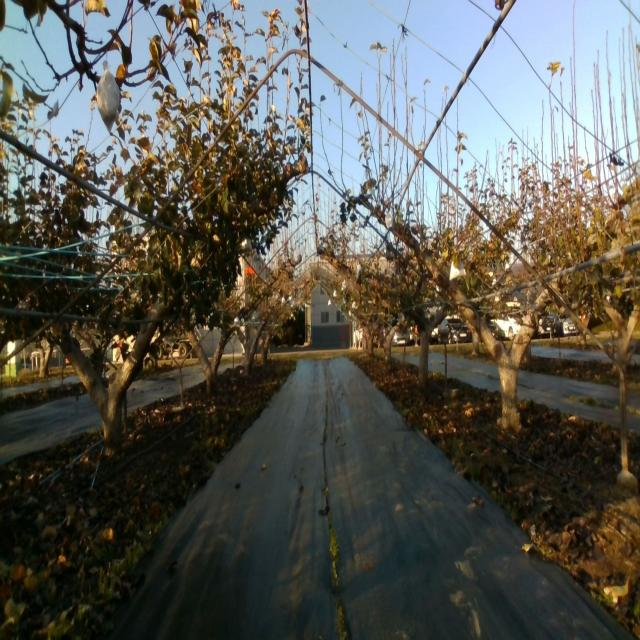pearbags: (96, 60, 120, 134), (448, 261, 466, 281), (384, 212, 395, 234), (241, 232, 253, 252)
